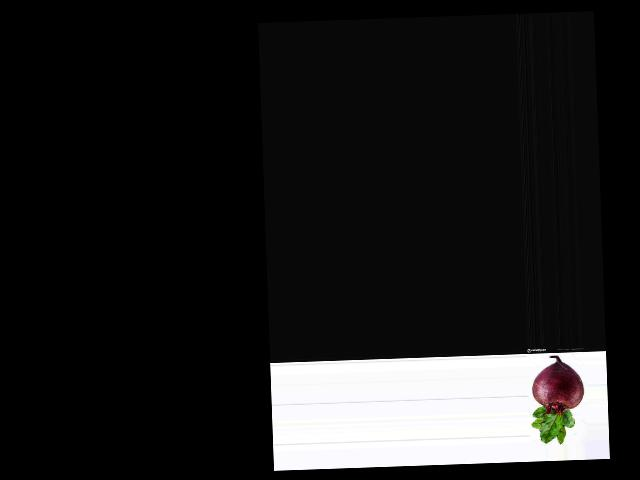beet: (529, 355, 586, 445)
